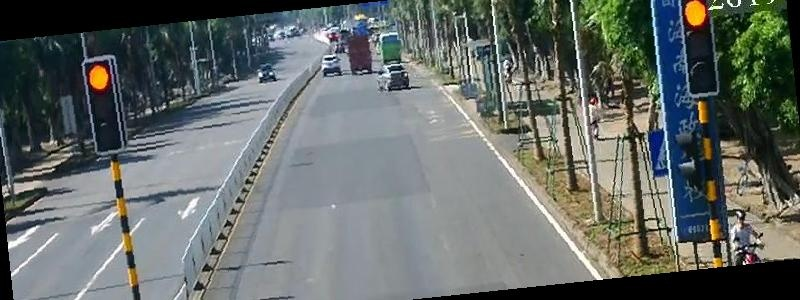red: (82, 59, 113, 98), (674, 1, 713, 32)
